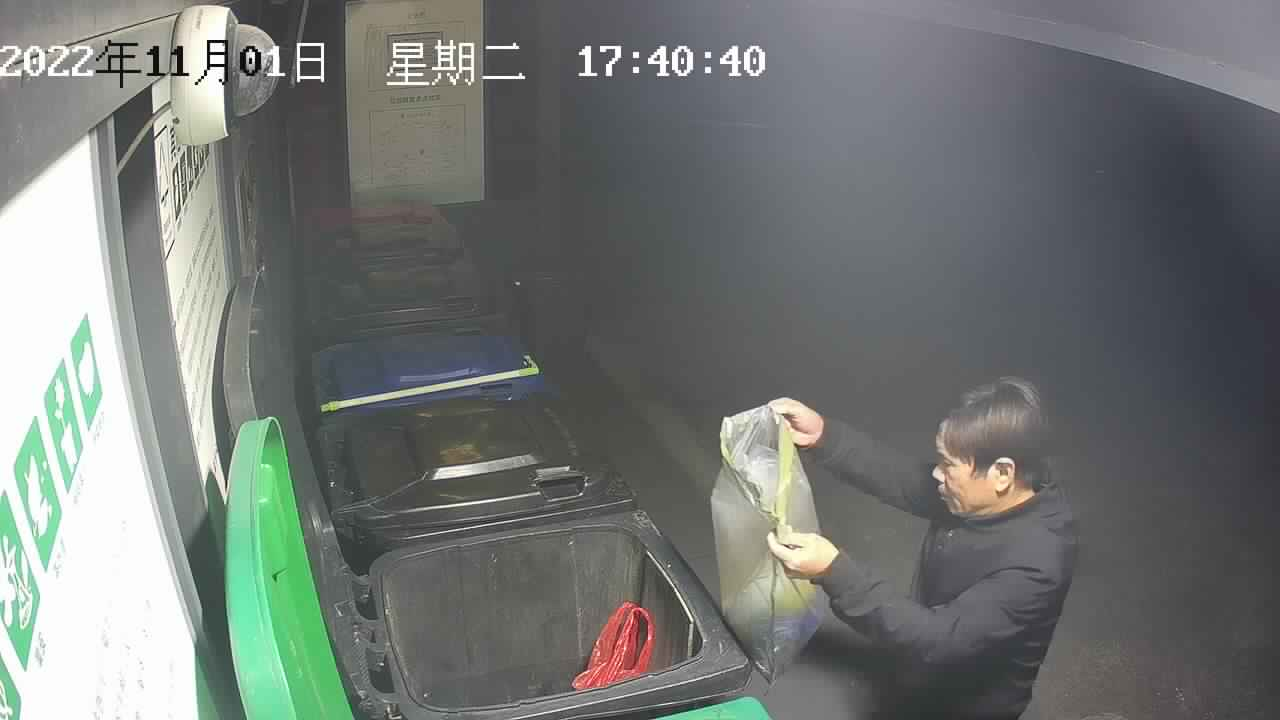garbage-bag: (706, 402, 829, 687)
person: (763, 372, 1079, 720)
